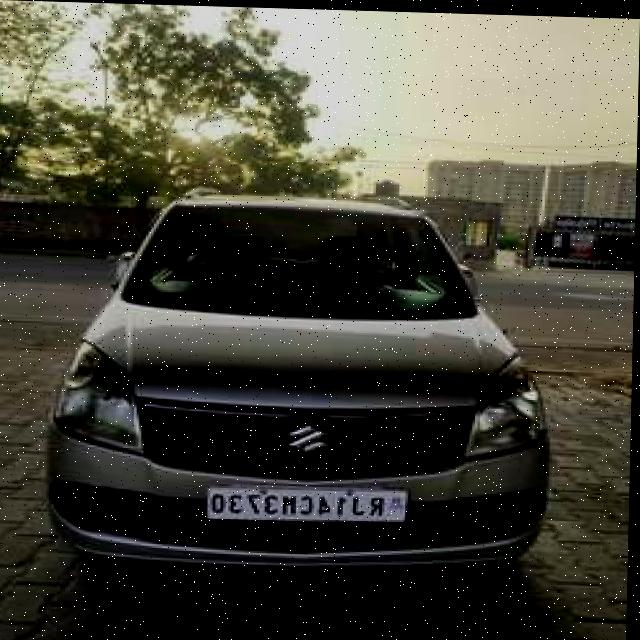plate: (207, 478, 416, 524)
